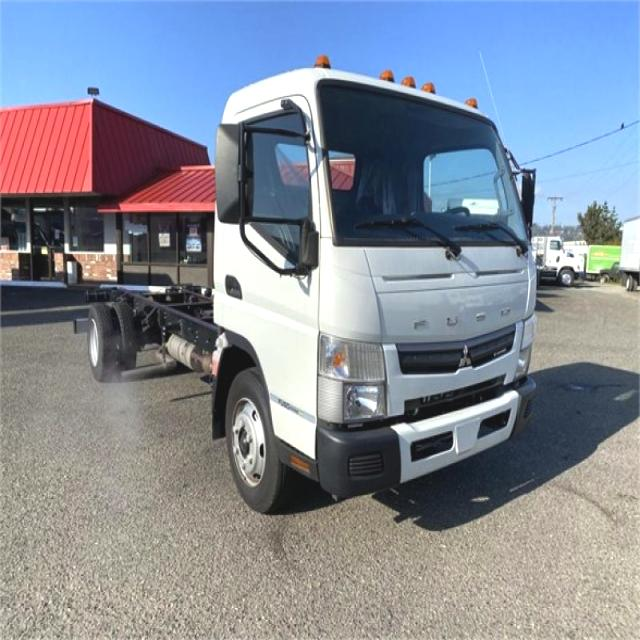truck: (72, 58, 537, 517)
